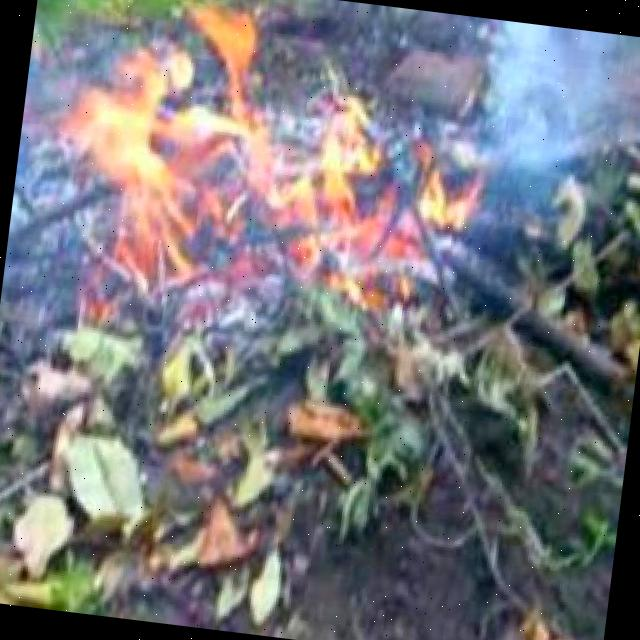fire: (41, 0, 443, 305)
